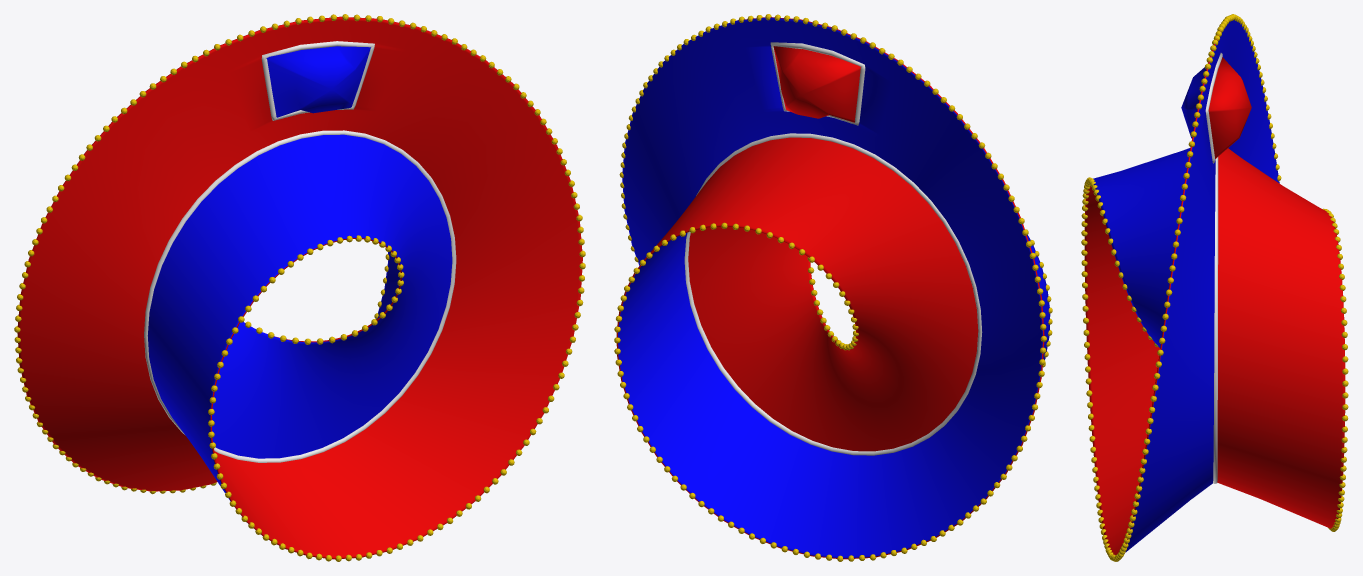
The model's file is l3_1_bubble.glb.
3 renders of one model, left to right at view 1: azimuth 30°, elevation 25°; view 2: azimuth 150°, elevation 25°; view 3: azimuth 270°, elevation 25°, orthographic. The views are drawn at different scales.
Visible parts, largest first — view 1: l3_1, Icosphere, sing; view 2: l3_1, Icosphere, sing; view 3: l3_1, Icosphere, sing.
Part boxes in pixels (x1,y1,x2,y2): l3_1: (17, 16, 582, 559); Icosphere: (14, 14, 585, 561); sing: (144, 41, 456, 462); l3_1: (616, 17, 1050, 559); Icosphere: (614, 14, 1052, 561); sing: (684, 42, 982, 455); l3_1: (1084, 20, 1345, 555); Icosphere: (1081, 14, 1348, 561); sing: (1205, 53, 1222, 483).
Bounding box in the file's own units: 171 × 163 × 81.47.
